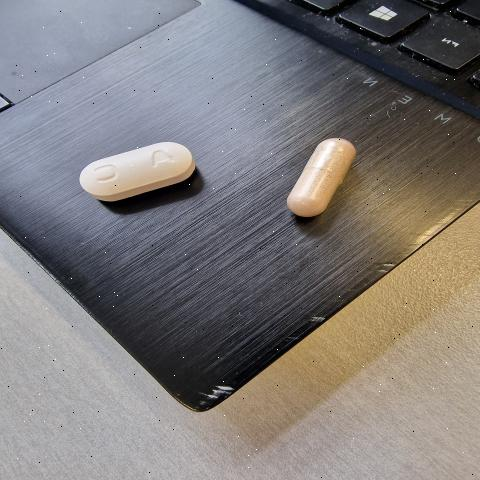Pill: (256, 128, 371, 230)
